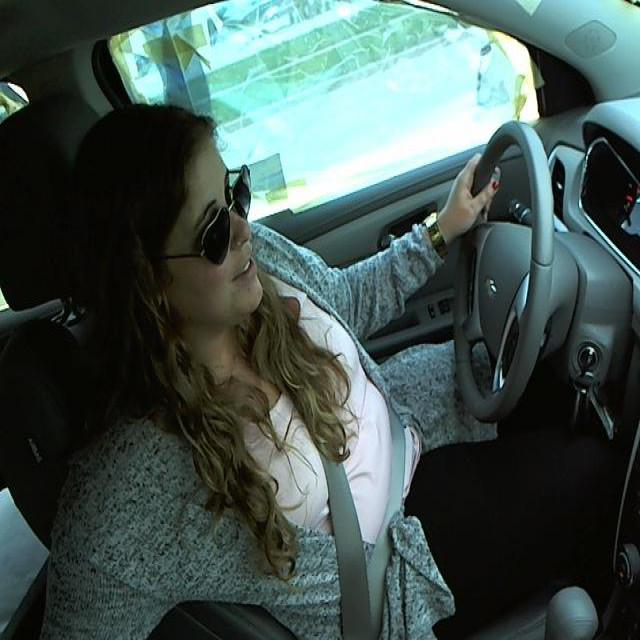seatbelt: (305, 406, 400, 638)
